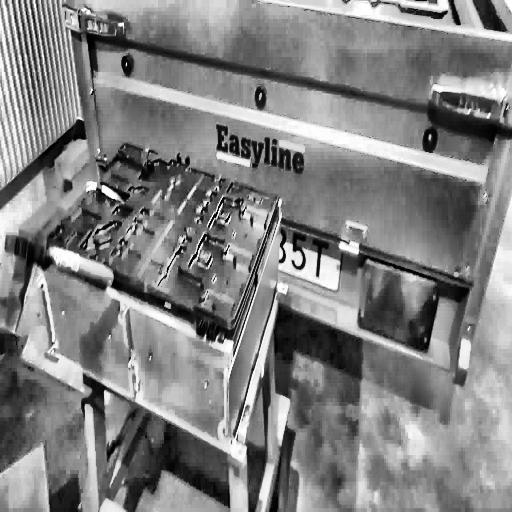battery_module: (38, 137, 286, 453)
